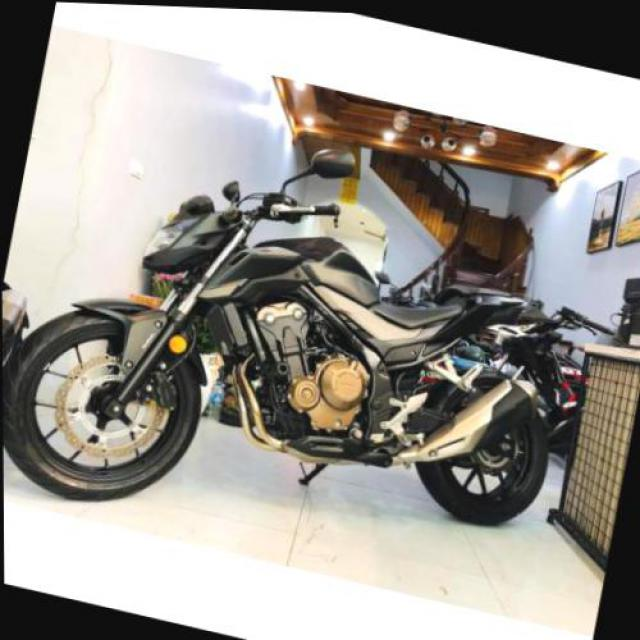CB500F: (1, 152, 590, 608)
